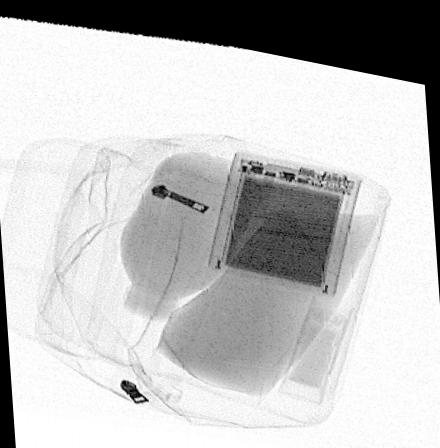Powerbank: (206, 142, 360, 283)
